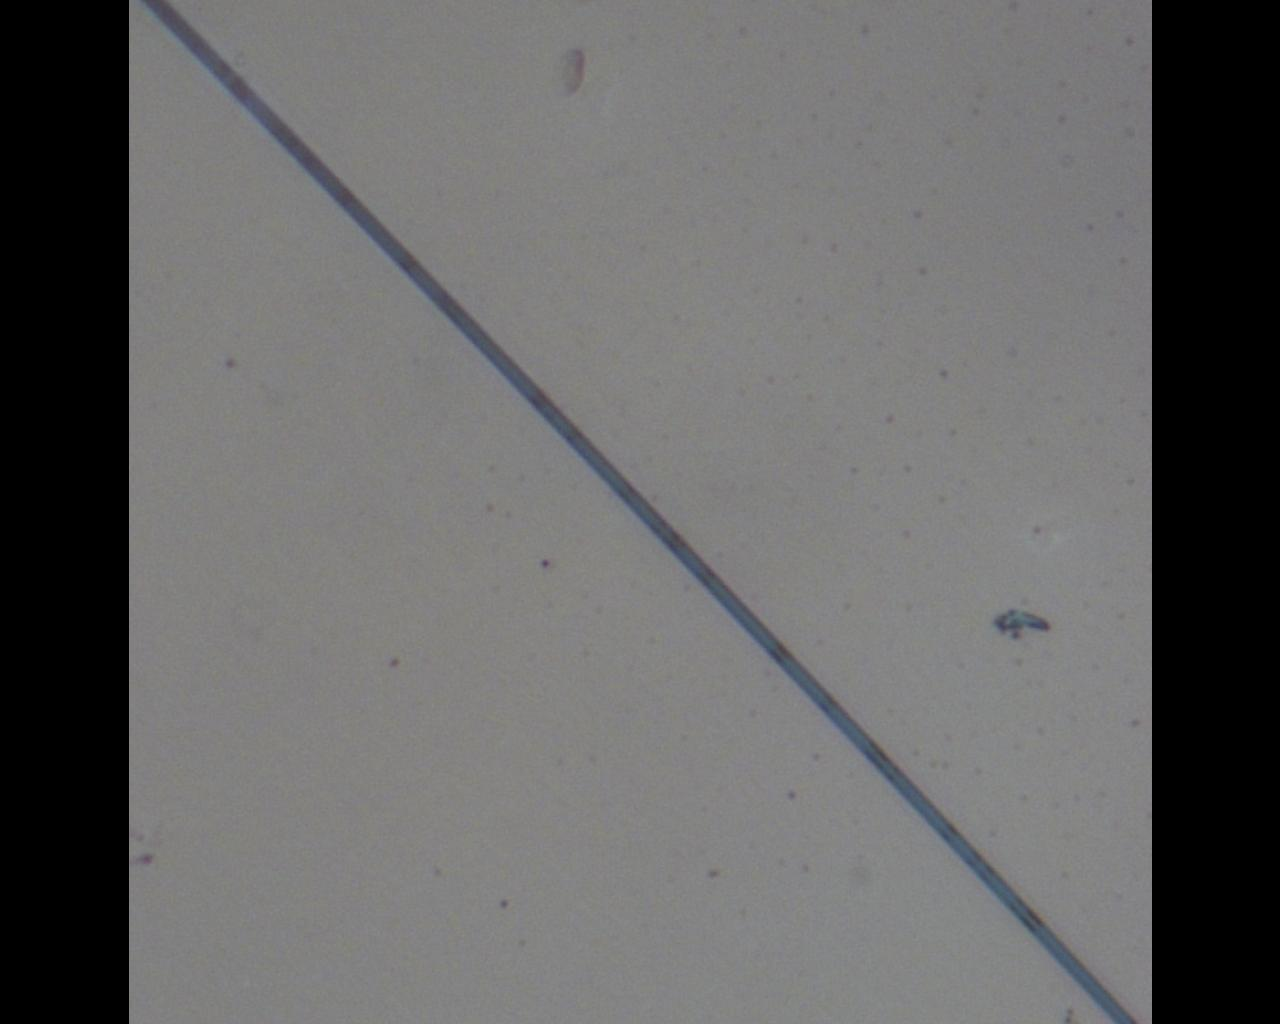fiber: (0, 239, 1178, 763)
